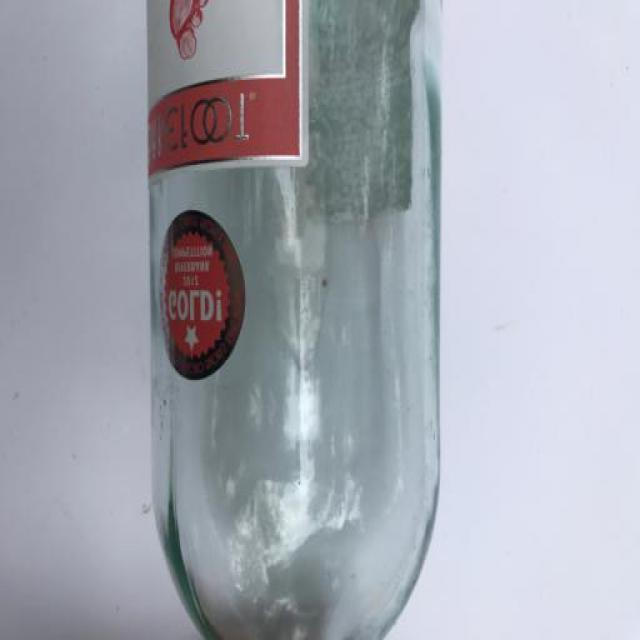glass: (148, 0, 444, 640)
